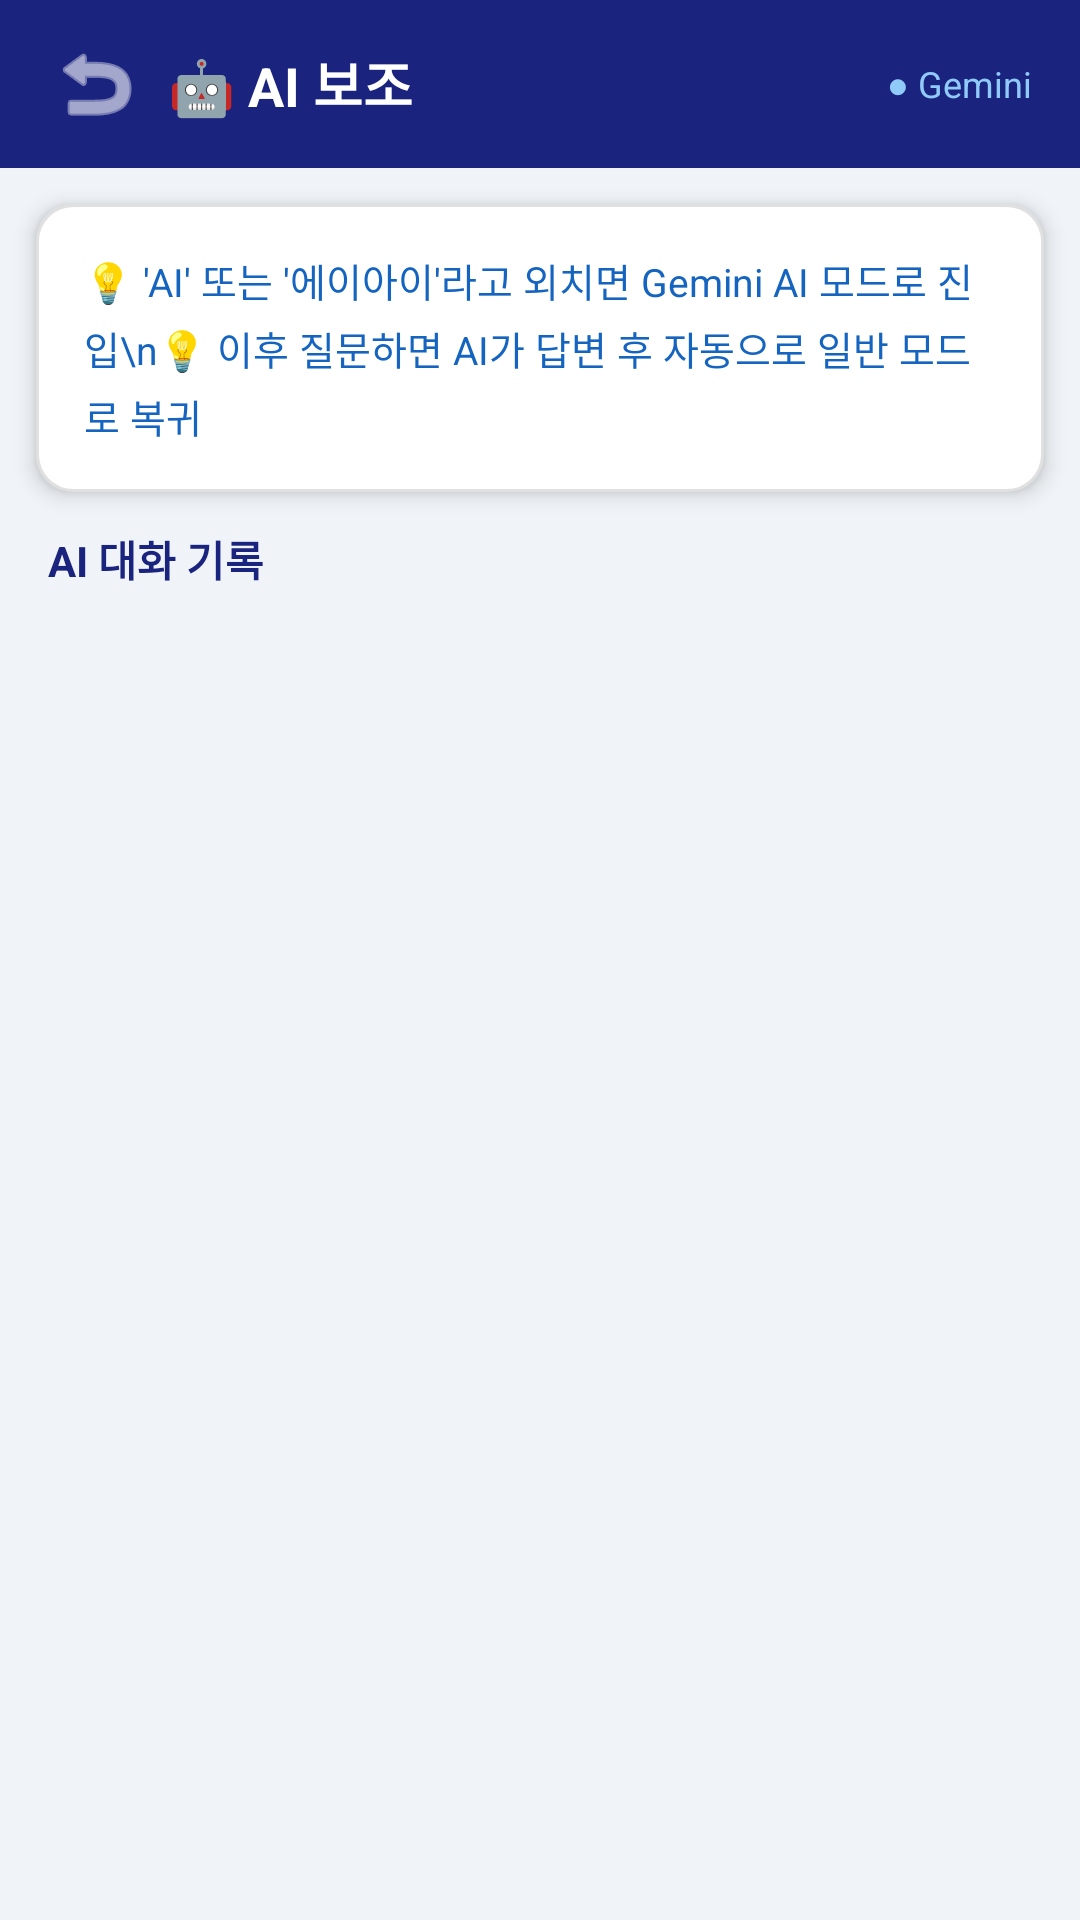

Icon click points for this 1080*1920 phone screenshot, format [x,y]:
revert: [97,84]
